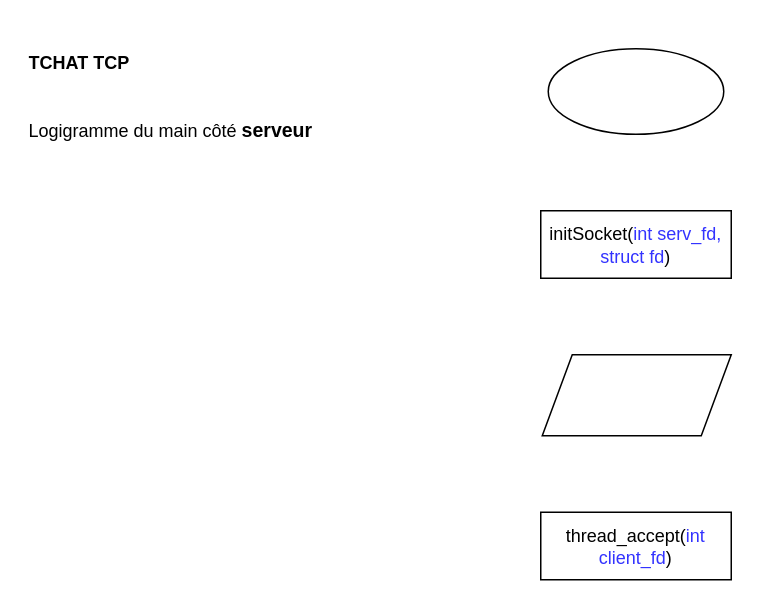
Some shapes in this 758 by 606 pixel diagram are drawn without their labels. The centre of each missing label's shape, as x and y in pixels:
début: (635,90)
tab clients[ ]: (636,394)
